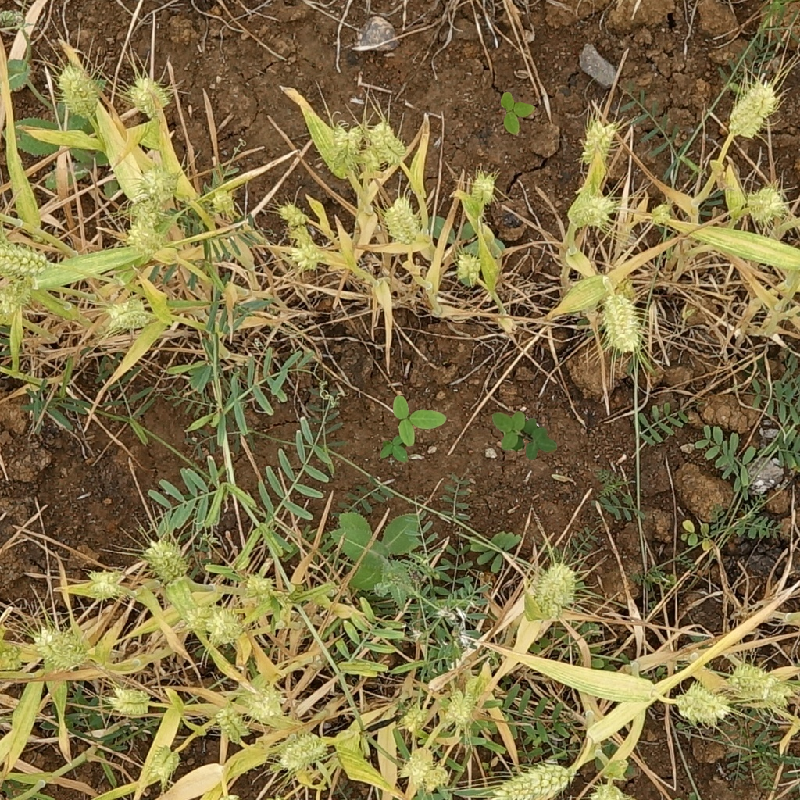spikelet: (487, 760, 573, 799), (726, 79, 779, 138), (599, 288, 643, 353), (56, 62, 100, 119), (32, 624, 89, 668), (674, 683, 731, 725), (728, 662, 786, 702), (535, 561, 578, 613), (102, 292, 153, 334), (1, 235, 53, 276), (277, 730, 328, 771), (143, 537, 189, 582), (382, 194, 422, 245), (367, 118, 408, 166), (402, 749, 448, 790), (566, 191, 615, 229), (128, 73, 170, 117), (579, 118, 617, 165), (743, 183, 787, 223), (134, 164, 177, 204), (240, 682, 285, 719), (1, 274, 35, 320), (204, 605, 243, 643), (108, 685, 152, 717), (442, 688, 477, 728), (214, 705, 249, 744), (332, 122, 363, 166), (126, 222, 166, 255), (399, 746, 434, 782), (467, 168, 499, 206), (287, 240, 324, 272), (202, 182, 236, 216), (453, 250, 484, 287), (86, 568, 123, 598), (241, 572, 274, 604), (587, 779, 636, 800), (398, 702, 429, 733), (276, 199, 309, 228), (648, 200, 675, 227), (1, 6, 27, 28)
weed: (33, 360, 156, 442), (258, 426, 339, 527), (204, 353, 314, 427), (335, 508, 428, 590), (449, 474, 524, 572), (148, 468, 241, 534), (498, 679, 578, 753), (335, 597, 402, 673), (714, 735, 800, 791), (55, 702, 139, 759), (380, 395, 447, 463), (696, 423, 760, 491), (711, 505, 796, 544), (634, 397, 695, 451), (492, 411, 557, 460), (594, 465, 646, 522), (350, 463, 398, 515), (501, 92, 536, 135), (438, 627, 474, 661), (639, 564, 675, 589)
